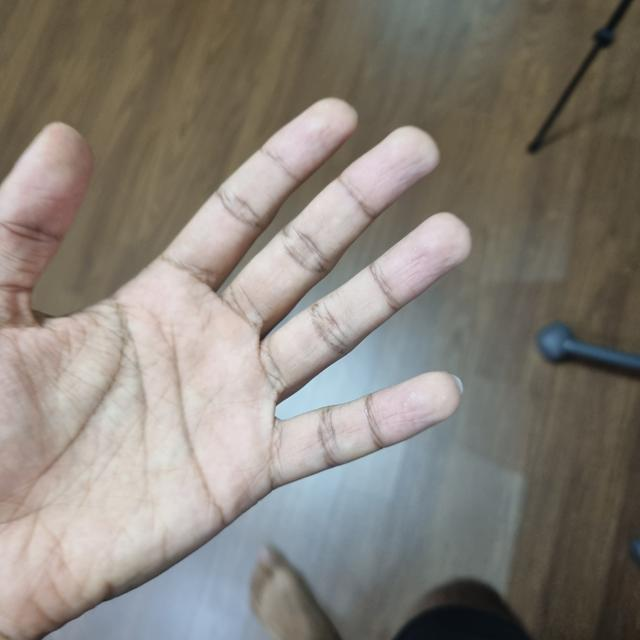Paper: (0, 99, 468, 634)
